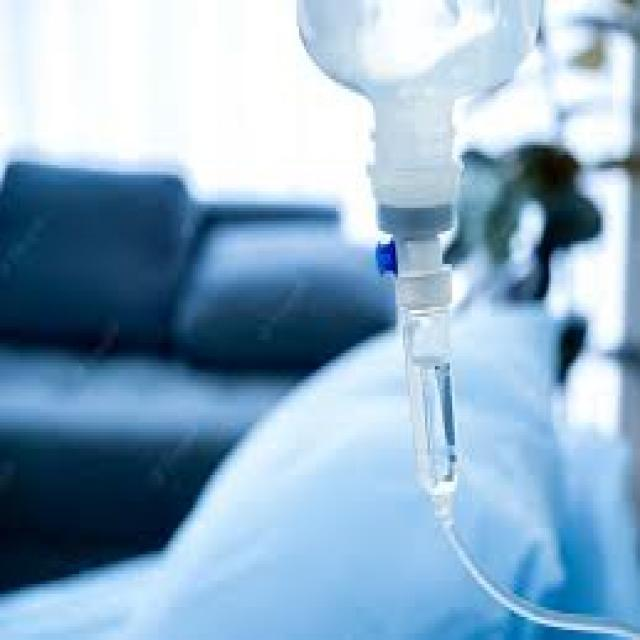iv_fluids: (316, 11, 536, 598)
